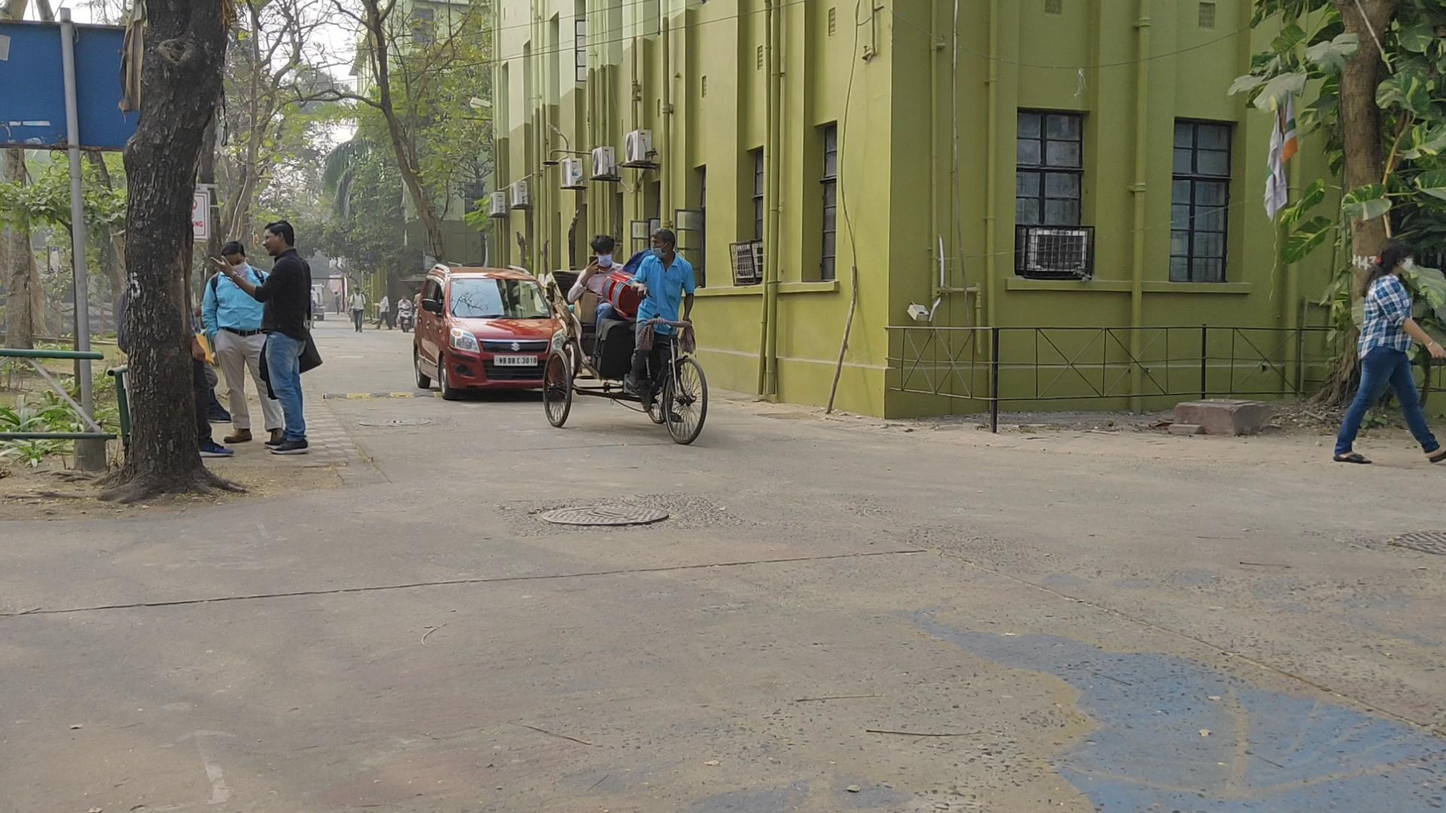bike: (397, 294, 415, 333)
car: (413, 261, 557, 403)
